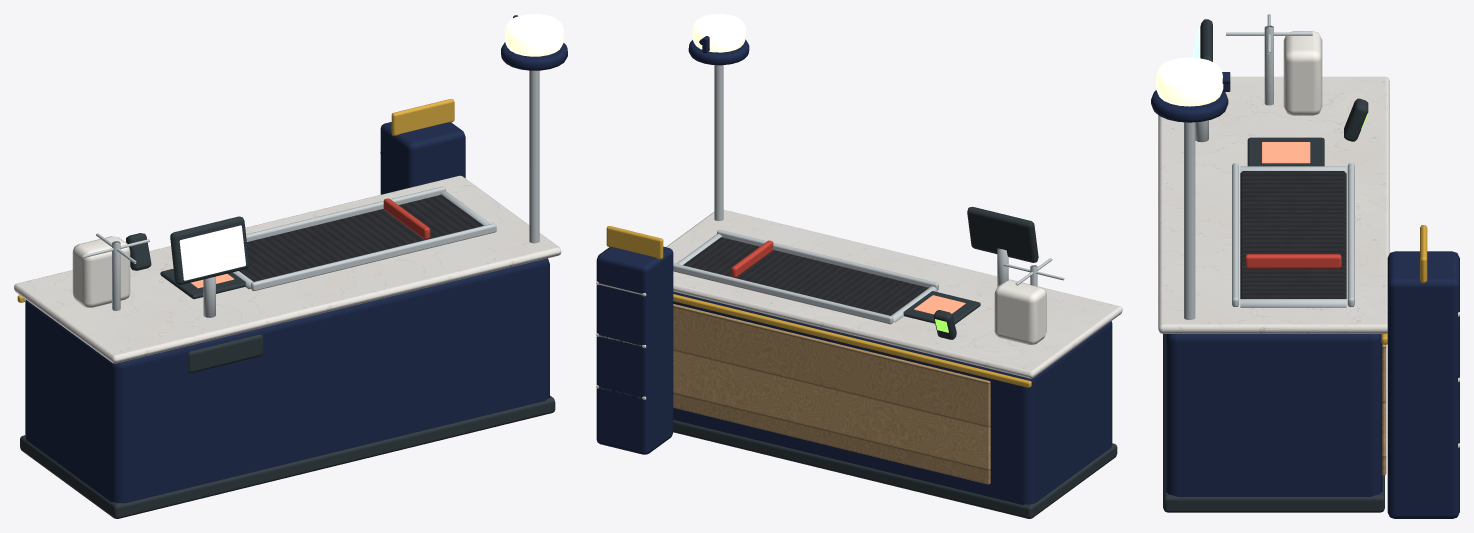
Rendered from checkout.fbx.
3 renders of one model, left to right at view 1: azimuth 30°, elevation 25°; view 2: azimuth 150°, elevation 25°; view 3: azimuth 270°, elevation 25°, orthographic. The views are drawn at different scales.
Parts seen in each view (by area): view 1: Body; view 2: Body; view 3: Body.
Boxes of the visible parts, bbox=[...] form: Body: bbox=[14, 14, 567, 518]; Body: bbox=[596, 14, 1122, 518]; Body: bbox=[1151, 14, 1459, 518].
Bounding box in the file's own units: 2.54 × 2.02 × 1.28.
